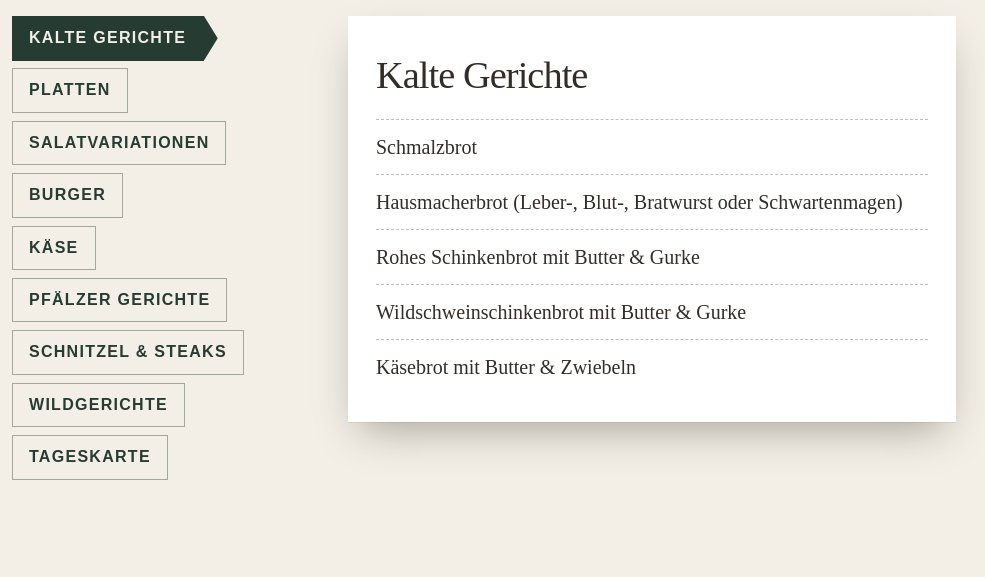
Scenario: MenuTabs › shows the category notes and publishes no invented prices
Click the tab "Schnitzel & Steaks".
click(128, 352)  # box x1=12 y1=330 x2=244 y2=375
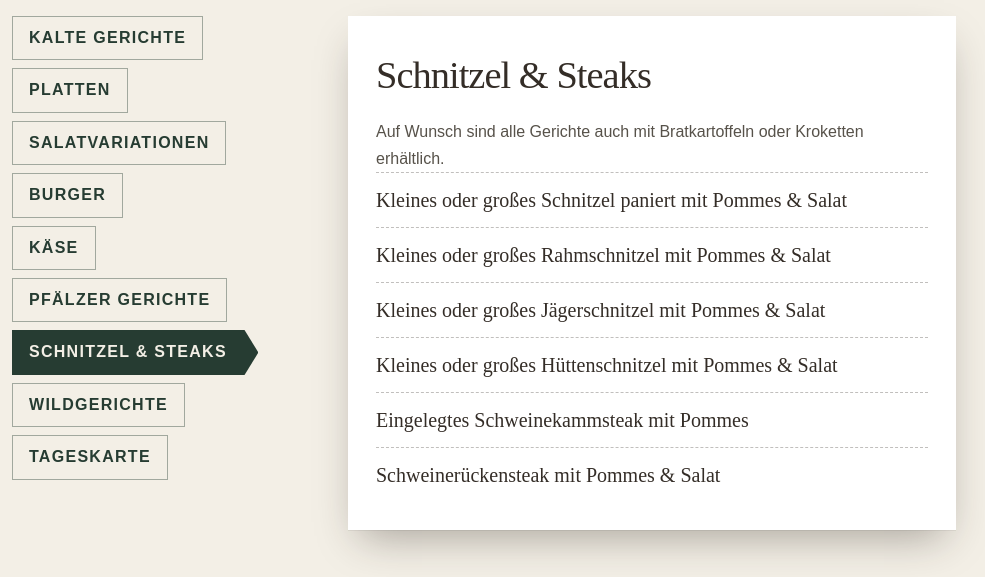
Check: the text "mit Bratkartoffeln oder Kroketten erhältlich" is shown, box x1=376 y1=123 x2=864 y2=167
